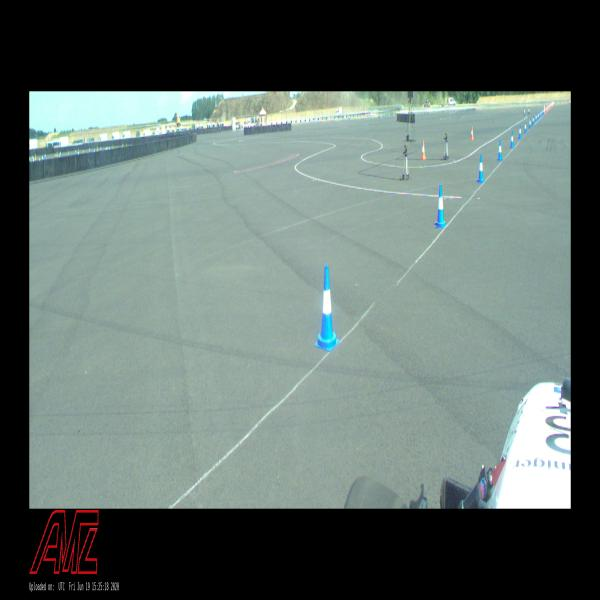blue_cone: (315, 265, 339, 351), (435, 184, 446, 228), (477, 154, 484, 182), (498, 140, 502, 160), (510, 132, 514, 148), (518, 126, 522, 139), (524, 122, 527, 133), (529, 118, 531, 128), (532, 116, 534, 126), (537, 112, 539, 120), (535, 114, 537, 122)
orange_cone: (421, 141, 426, 160), (470, 127, 474, 140)
